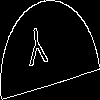Y: (25, 25, 49, 77)
